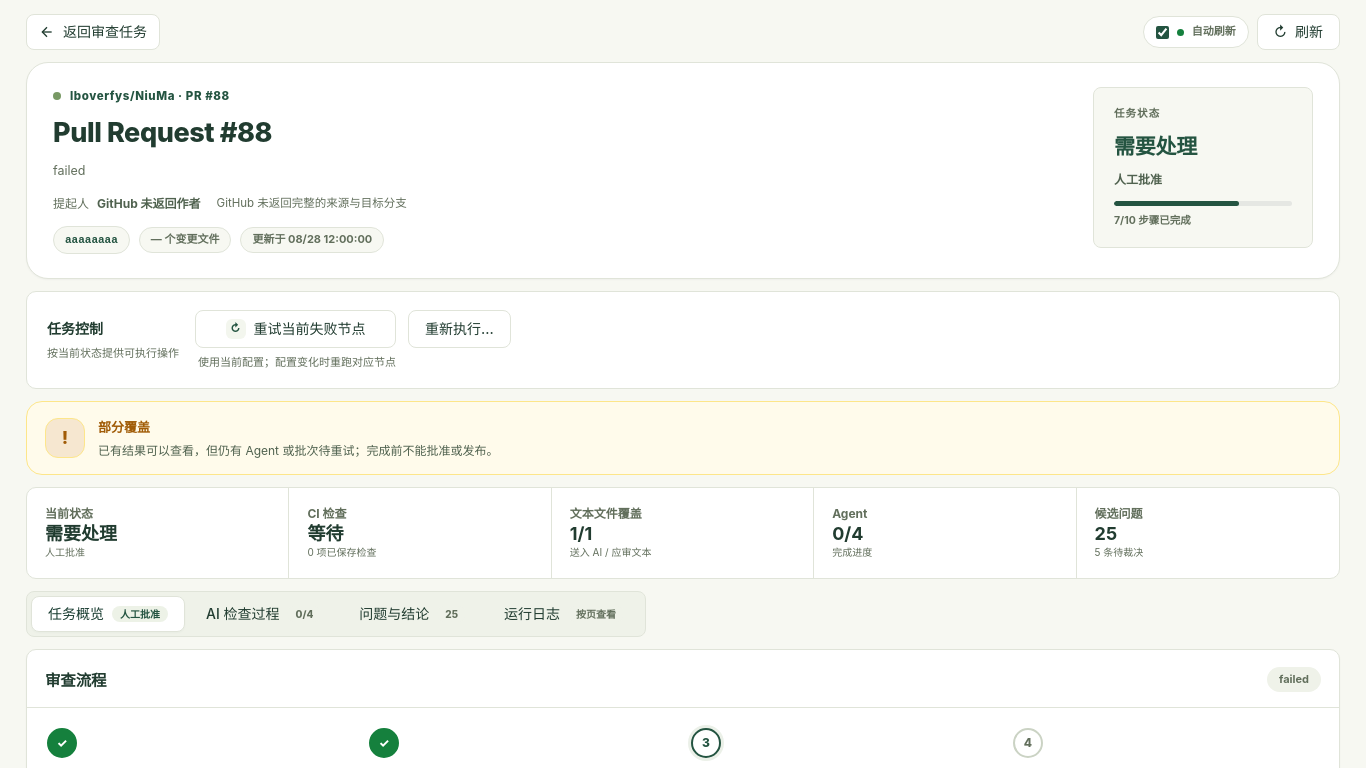
Scenario: 阶段重试在任务控制区打开紧凑弹窗，并把执行错误留在弹窗内
This screenshot has width=1366, height=768.
Check: the text "任务控制" is shown, box [47,320,103,337]
Click the button "重新执行…" at [459, 329], box [408,310,511,348]
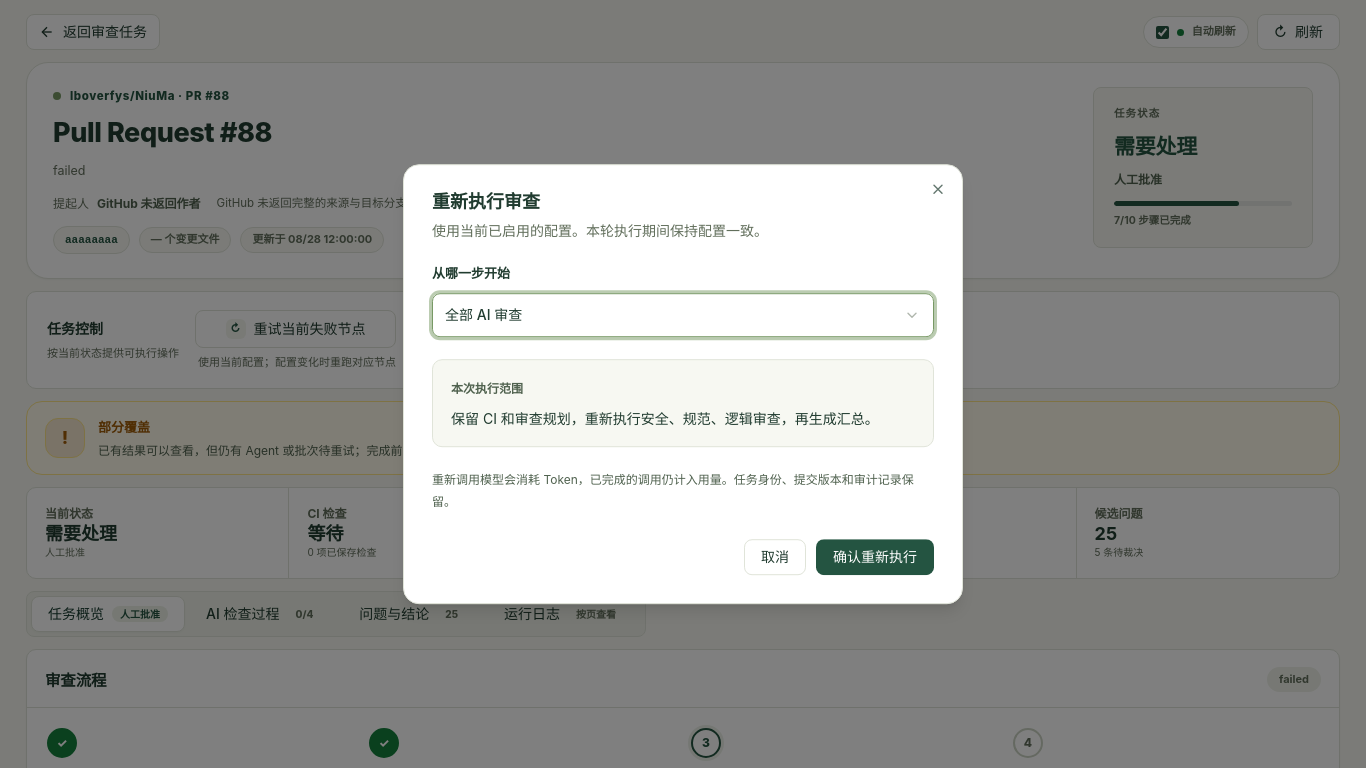
Select "仅重新汇总" in the dropdown labelled "从哪一步开始" at [683, 315], box [432,293,934,337]
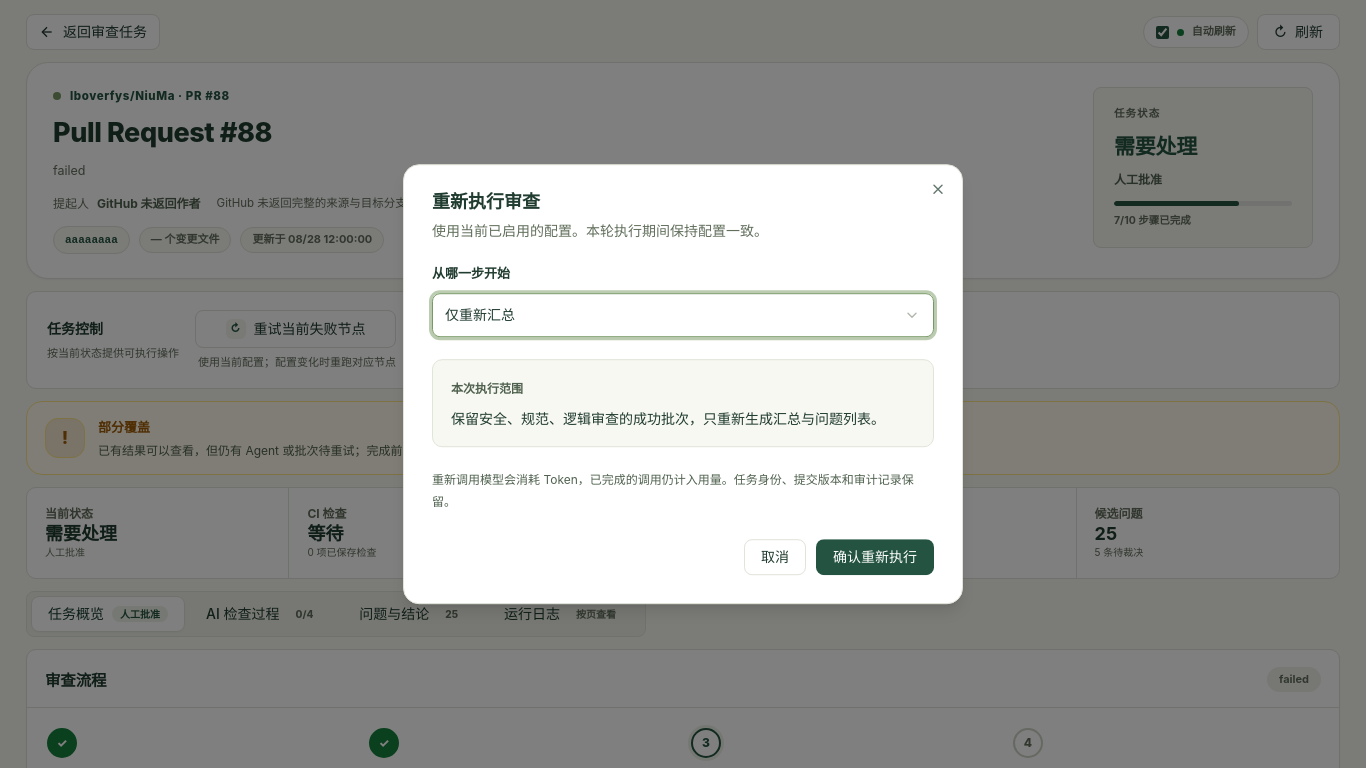
Check: the text "保留安全、规范、逻辑审查的成功批次，只重新生成汇总与问题列表。" is shown, box [451,407,915,431]
Click the button "确认重新执行" at [875, 557], box [816,539,934,575]
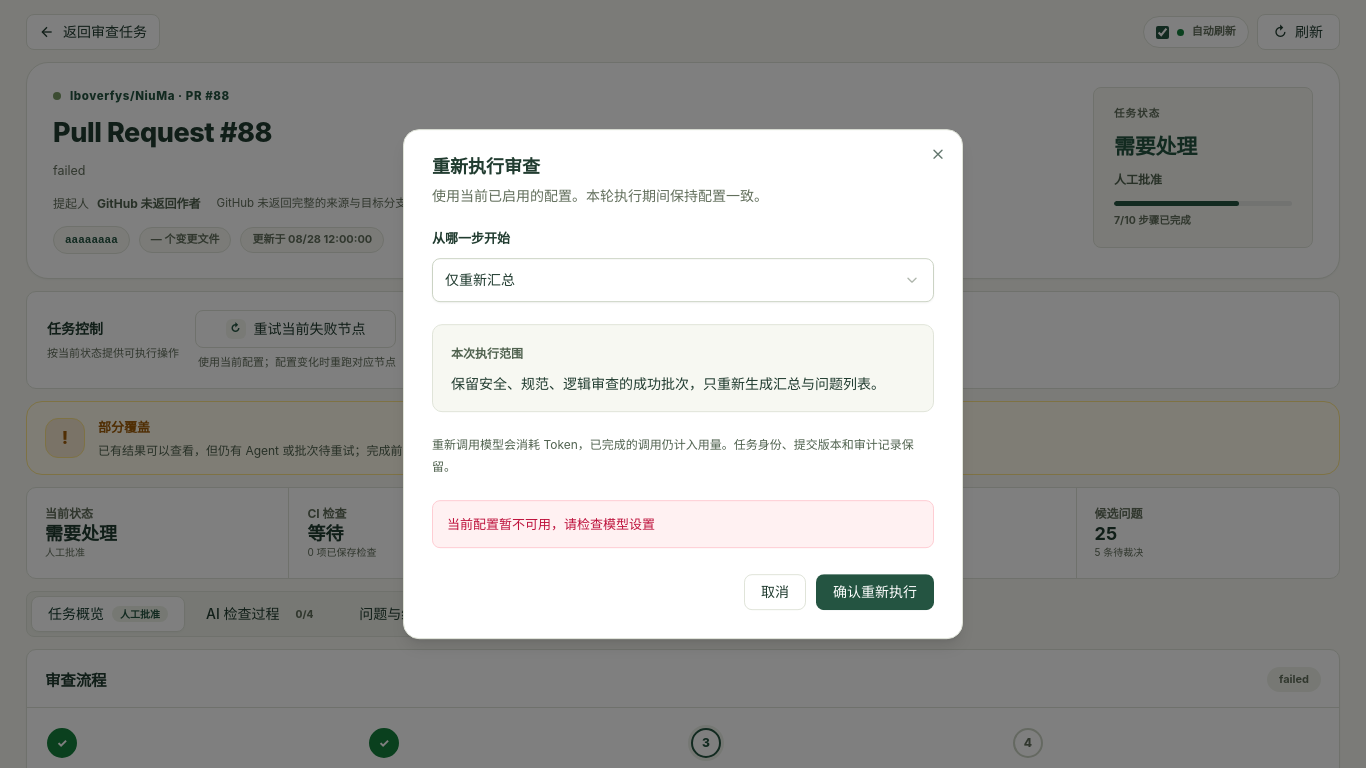
Check: the message shows "当前配置暂不可用", box [447,516,655,532]
